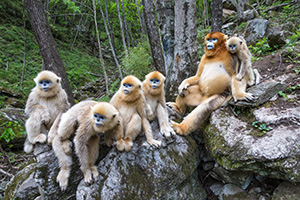GoldenSnub-Nosed: (181, 25, 238, 134), (49, 104, 118, 181), (23, 69, 73, 137), (109, 74, 147, 151), (142, 67, 174, 137), (227, 34, 255, 91)
